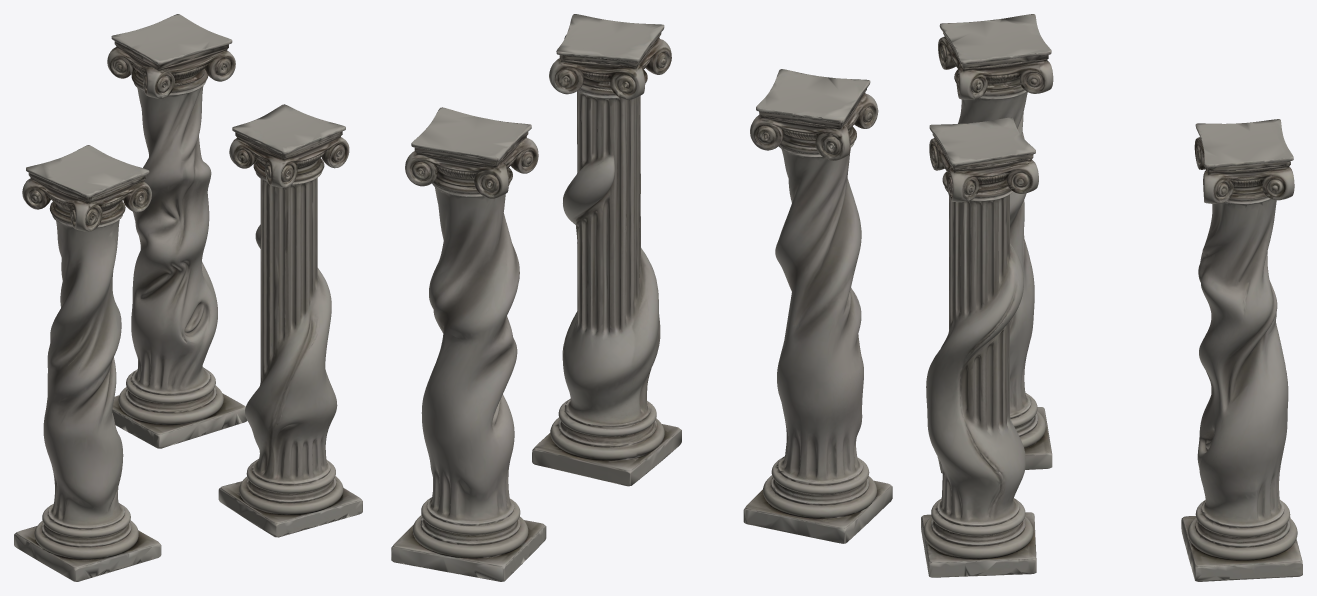
File: column_meshopt.glb
3 views of the same model, side by side, from view 1: azimuth 30°, elevation 25°; view 2: azimuth 150°, elevation 25°; view 3: azimuth 270°, elevation 25° (orthographic). The views are drawn at different scales.
Visible parts, largest first — view 1: material; view 2: material; view 3: material.
Part boxes in pixels (<box>): material: <box>14,14,362,581</box>; material: <box>391,14,892,581</box>; material: <box>921,14,1302,581</box>.
Bounding box in the file's own units: 0.6622 × 0.7929 × 0.666.
1 material, 1 textured.
